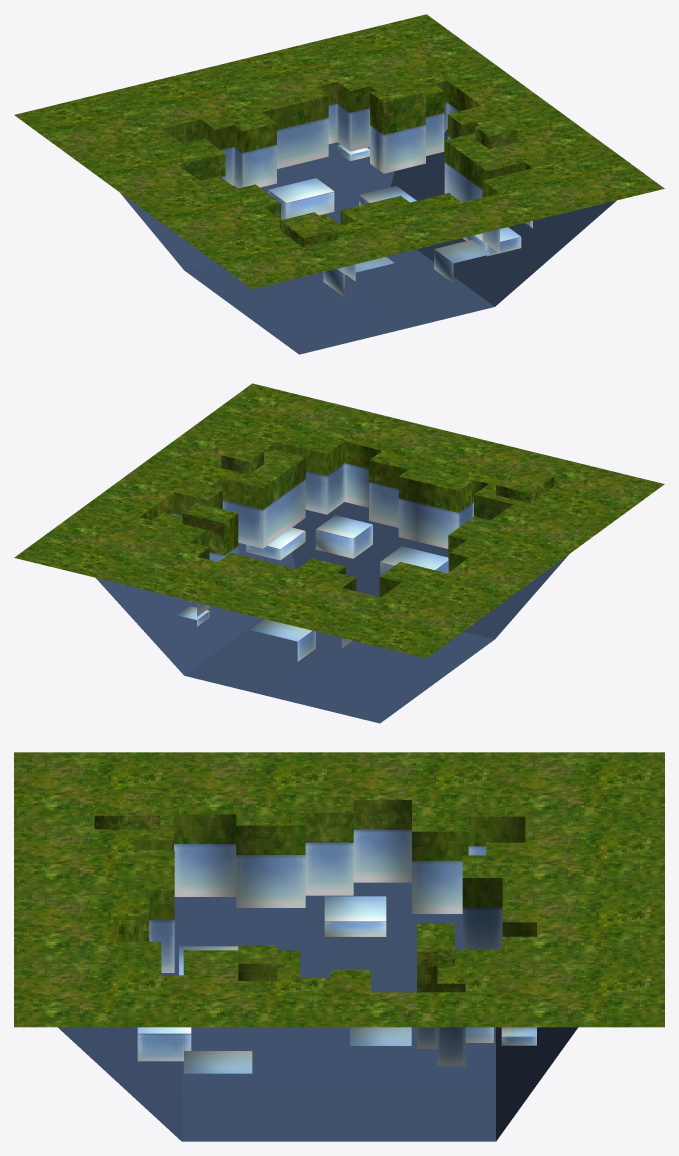
The model's file is a_SWAhole03.glb.
The picture shows the model from 3 angles, top to bottom: view 1: azimuth 30°, elevation 25°; view 2: azimuth 150°, elevation 25°; view 3: azimuth 270°, elevation 25°; orthographic projection. The views are drawn at different scales.
Parts seen in each view (by area): view 1: a_SWAhole03; view 2: a_SWAhole03; view 3: a_SWAhole03.
Part boxes in pixels (x1,y1,x2,y2): a_SWAhole03: (14,14,664,354); a_SWAhole03: (14,383,664,723); a_SWAhole03: (14,752,664,1141).
Size of the model in its own units: 4 by 1.4 by 4.
Materials: 3 (3 with a texture image).
